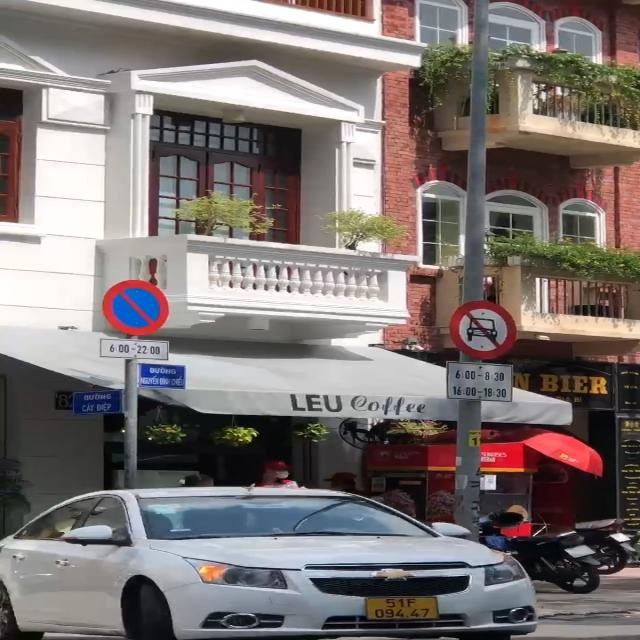Bien bao cam do xe: (97, 275, 175, 336)
Bien bao cam xe oto: (448, 298, 522, 362)
